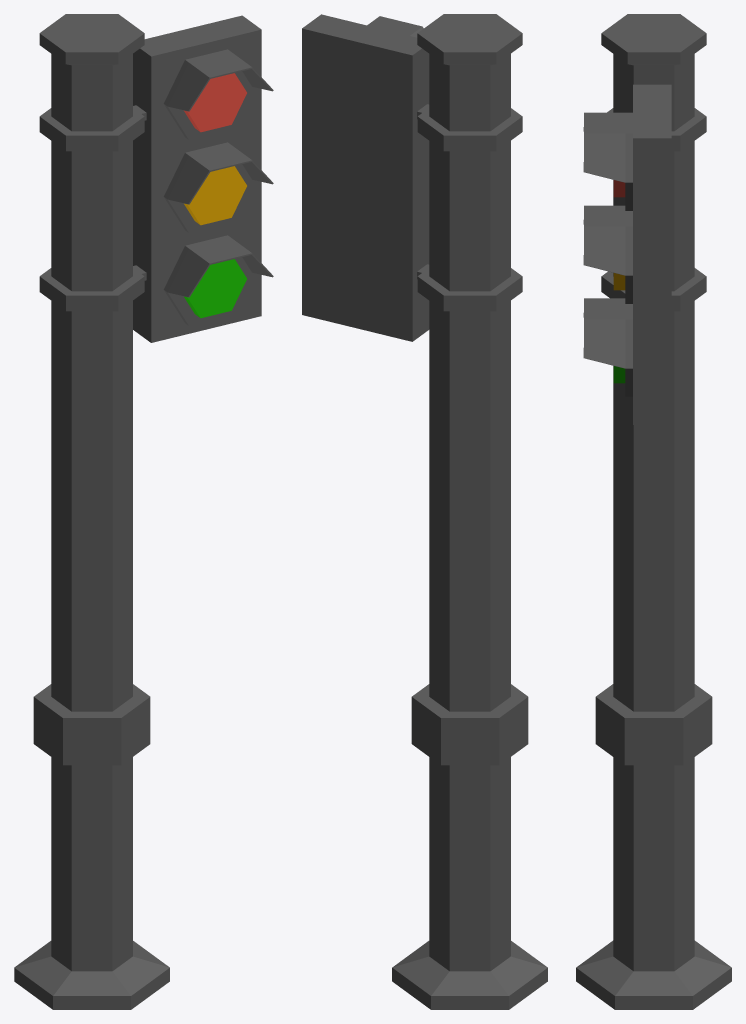
Rendered from traffic_03.fbx.
3 renders of one model, left to right at view 1: azimuth 30°, elevation 25°; view 2: azimuth 150°, elevation 25°; view 3: azimuth 270°, elevation 25°, orthographic.
Parts seen in each view (by area): view 1: Cylinder.010, Cylinder.013, Cylinder.014, Cylinder.015; view 2: Cylinder.010, Cylinder.013, Cylinder.015; view 3: Cylinder.010, Cylinder.013, Cylinder.015, Cylinder.014.
Part boxes in pixels (<box>): Cylinder.010: <box>14,14,169,1009</box>; Cylinder.013: <box>133,15,261,342</box>; Cylinder.014: <box>163,49,252,325</box>; Cylinder.015: <box>167,52,273,297</box>; Cylinder.010: <box>392,14,547,1009</box>; Cylinder.013: <box>302,14,429,341</box>; Cylinder.015: <box>367,16,423,37</box>; Cylinder.010: <box>576,14,731,1009</box>; Cylinder.013: <box>633,84,671,424</box>; Cylinder.015: <box>583,112,625,368</box>; Cylinder.014: <box>613,112,632,396</box>.
Bounding box in the file's own units: 98.48 × 410 × 61.08.
